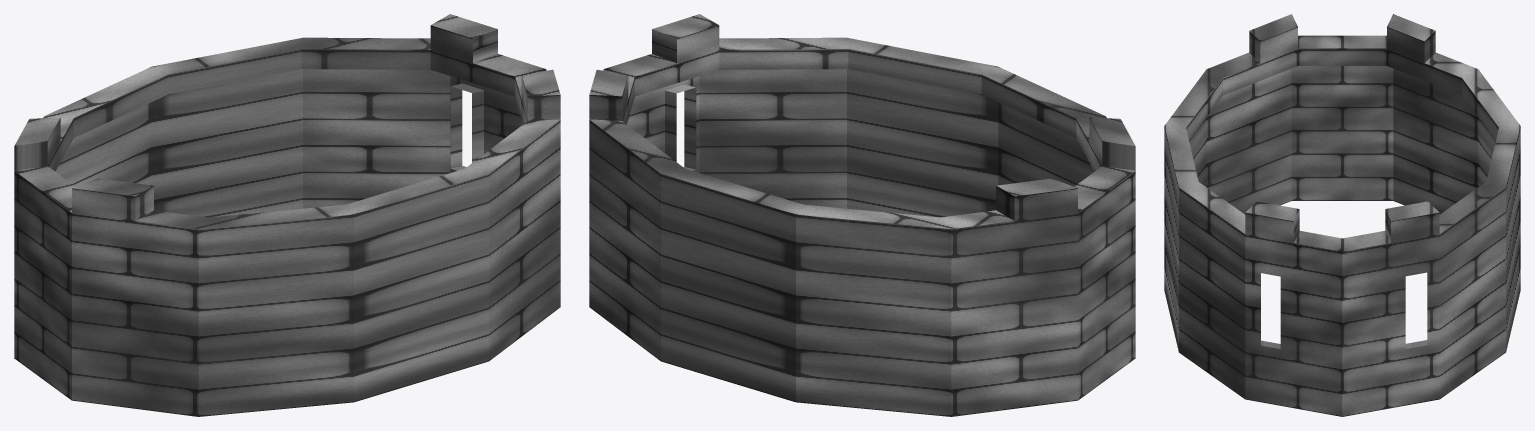
The model's file is Main.fbx.
3 renders of one model, left to right at view 1: azimuth 30°, elevation 25°; view 2: azimuth 150°, elevation 25°; view 3: azimuth 270°, elevation 25°, orthographic. The views are drawn at different scales.
Parts seen in each view (by area): view 1: polySurface3; view 2: polySurface3; view 3: polySurface3.
Part boxes in pixels (left/top/right/bottom): polySurface3: left=14, top=14, right=560, bottom=416; polySurface3: left=589, top=14, right=1135, bottom=416; polySurface3: left=1164, top=14, right=1520, bottom=416.
Bounding box in the file's own units: 1.13 × 0.4571 × 0.7891.
Materials: 1 (1 with a texture image).
